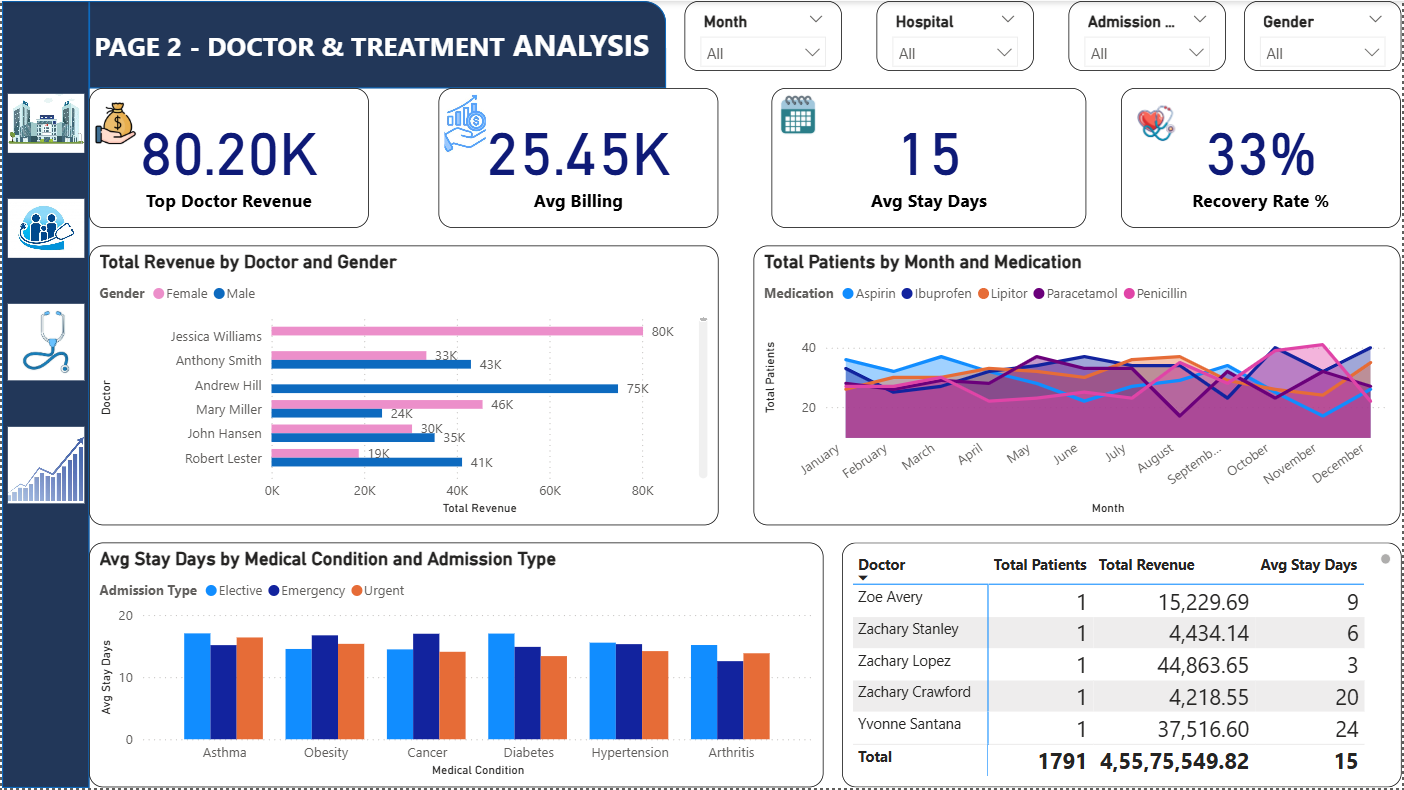

The dashboard page shown, as its layout file describes it:
{"tool":"powerbi","page":{"name":"Page 2","canvas":[1280,720],"ordinal":1},"visuals":[{"type":"shape","box":[0,0,80,720],"z":0},{"type":"shape","box":[80,0,528,80],"z":1000},{"type":"card","fields":{"Values":["healthcare_dataset.Top Doctor Revenue"]},"box":[80,80,256,128],"z":2000},{"type":"card","fields":{"Values":["healthcare_dataset.Avg Billing"]},"box":[400,80,256,128],"z":3000},{"type":"card","fields":{"Values":["healthcare_dataset.Avg Stay Days"]},"box":[704,80,288,128],"z":4000},{"type":"card","fields":{"Values":["healthcare_dataset.Recovery Rate %"]},"box":[1024,80,256,128],"z":5000},{"type":"clusteredBarChart","fields":{"Category":["healthcare_dataset.Doctor"],"Y":["healthcare_dataset.Total Revenue"],"Series":["healthcare_dataset.Gender"]},"box":[80,224,576,256],"z":6000},{"type":"areaChart","fields":{"Category":["healthcare_dataset.Month"],"Y":["healthcare_dataset.Total Patients"],"Series":["healthcare_dataset.Medication"]},"box":[688,224,592,256],"z":7000},{"type":"clusteredColumnChart","fields":{"Category":["healthcare_dataset.Medical Condition"],"Y":["healthcare_dataset.Avg Stay Days"],"Series":["healthcare_dataset.Admission Type"]},"box":[80,496,672,224],"z":8000},{"type":"pivotTable","fields":{"Values":["healthcare_dataset.Total Patients","healthcare_dataset.Total Revenue","healthcare_dataset.Avg Stay Days"],"Rows":["healthcare_dataset.Doctor"]},"box":[768,496,512,224],"z":9000},{"type":"slicer","fields":{"Values":["healthcare_dataset.Hospital"]},"box":[800,0,144,64],"z":10000},{"type":"slicer","fields":{"Values":["healthcare_dataset.Admission Type"]},"box":[976,0,144,64],"z":11000},{"type":"slicer","fields":{"Values":["healthcare_dataset.Gender"]},"box":[1136,0,144,64],"z":12000},{"type":"slicer","fields":{"Values":["healthcare_dataset.Month"]},"box":[624,0,144,64],"z":13000},{"type":"textbox","box":[80,16,528,48],"z":14000},{"type":"image","box":[0,80,80,64],"z":14001},{"type":"image","box":[0,176,80,64],"z":14002},{"type":"image","box":[0,272,80,80],"z":14003},{"type":"image","box":[0,384,80,80],"z":14004},{"type":"image","box":[704,80,48,48],"z":14005},{"type":"image","box":[400,80,48,64],"z":14006},{"type":"image","box":[1024,80,64,64],"z":14007},{"type":"image","box":[80,80,48,64],"z":14008}]}

Visuals, with their boxes in screenshot pixels (x1, y1, x2, y2), scaled from the page's 1280x720 canvas onto the 1404x790 screenshot:
shape: {"left": 0, "top": 0, "right": 88, "bottom": 789}
shape: {"left": 88, "top": 0, "right": 667, "bottom": 88}
card - healthcare_dataset.Top Doctor Revenue: {"left": 88, "top": 88, "right": 369, "bottom": 228}
card - healthcare_dataset.Avg Billing: {"left": 439, "top": 88, "right": 720, "bottom": 228}
card - healthcare_dataset.Avg Stay Days: {"left": 772, "top": 88, "right": 1088, "bottom": 228}
card - healthcare_dataset.Recovery Rate %: {"left": 1123, "top": 88, "right": 1403, "bottom": 228}
clusteredBarChart - healthcare_dataset.Doctor x healthcare_dataset.Total Revenue: {"left": 88, "top": 246, "right": 720, "bottom": 527}
areaChart - healthcare_dataset.Month x healthcare_dataset.Total Patients: {"left": 755, "top": 246, "right": 1403, "bottom": 527}
clusteredColumnChart - healthcare_dataset.Medical Condition x healthcare_dataset.Avg Stay Days: {"left": 88, "top": 544, "right": 825, "bottom": 789}
pivotTable - healthcare_dataset.Total Patients x healthcare_dataset.Total Revenue: {"left": 842, "top": 544, "right": 1403, "bottom": 789}
slicer - healthcare_dataset.Hospital: {"left": 878, "top": 0, "right": 1035, "bottom": 70}
slicer - healthcare_dataset.Admission Type: {"left": 1071, "top": 0, "right": 1228, "bottom": 70}
slicer - healthcare_dataset.Gender: {"left": 1246, "top": 0, "right": 1403, "bottom": 70}
slicer - healthcare_dataset.Month: {"left": 684, "top": 0, "right": 842, "bottom": 70}
textbox: {"left": 88, "top": 18, "right": 667, "bottom": 70}
image: {"left": 0, "top": 88, "right": 88, "bottom": 158}
image: {"left": 0, "top": 193, "right": 88, "bottom": 263}
image: {"left": 0, "top": 298, "right": 88, "bottom": 386}
image: {"left": 0, "top": 421, "right": 88, "bottom": 509}
image: {"left": 772, "top": 88, "right": 825, "bottom": 140}
image: {"left": 439, "top": 88, "right": 491, "bottom": 158}
image: {"left": 1123, "top": 88, "right": 1193, "bottom": 158}
image: {"left": 88, "top": 88, "right": 140, "bottom": 158}
